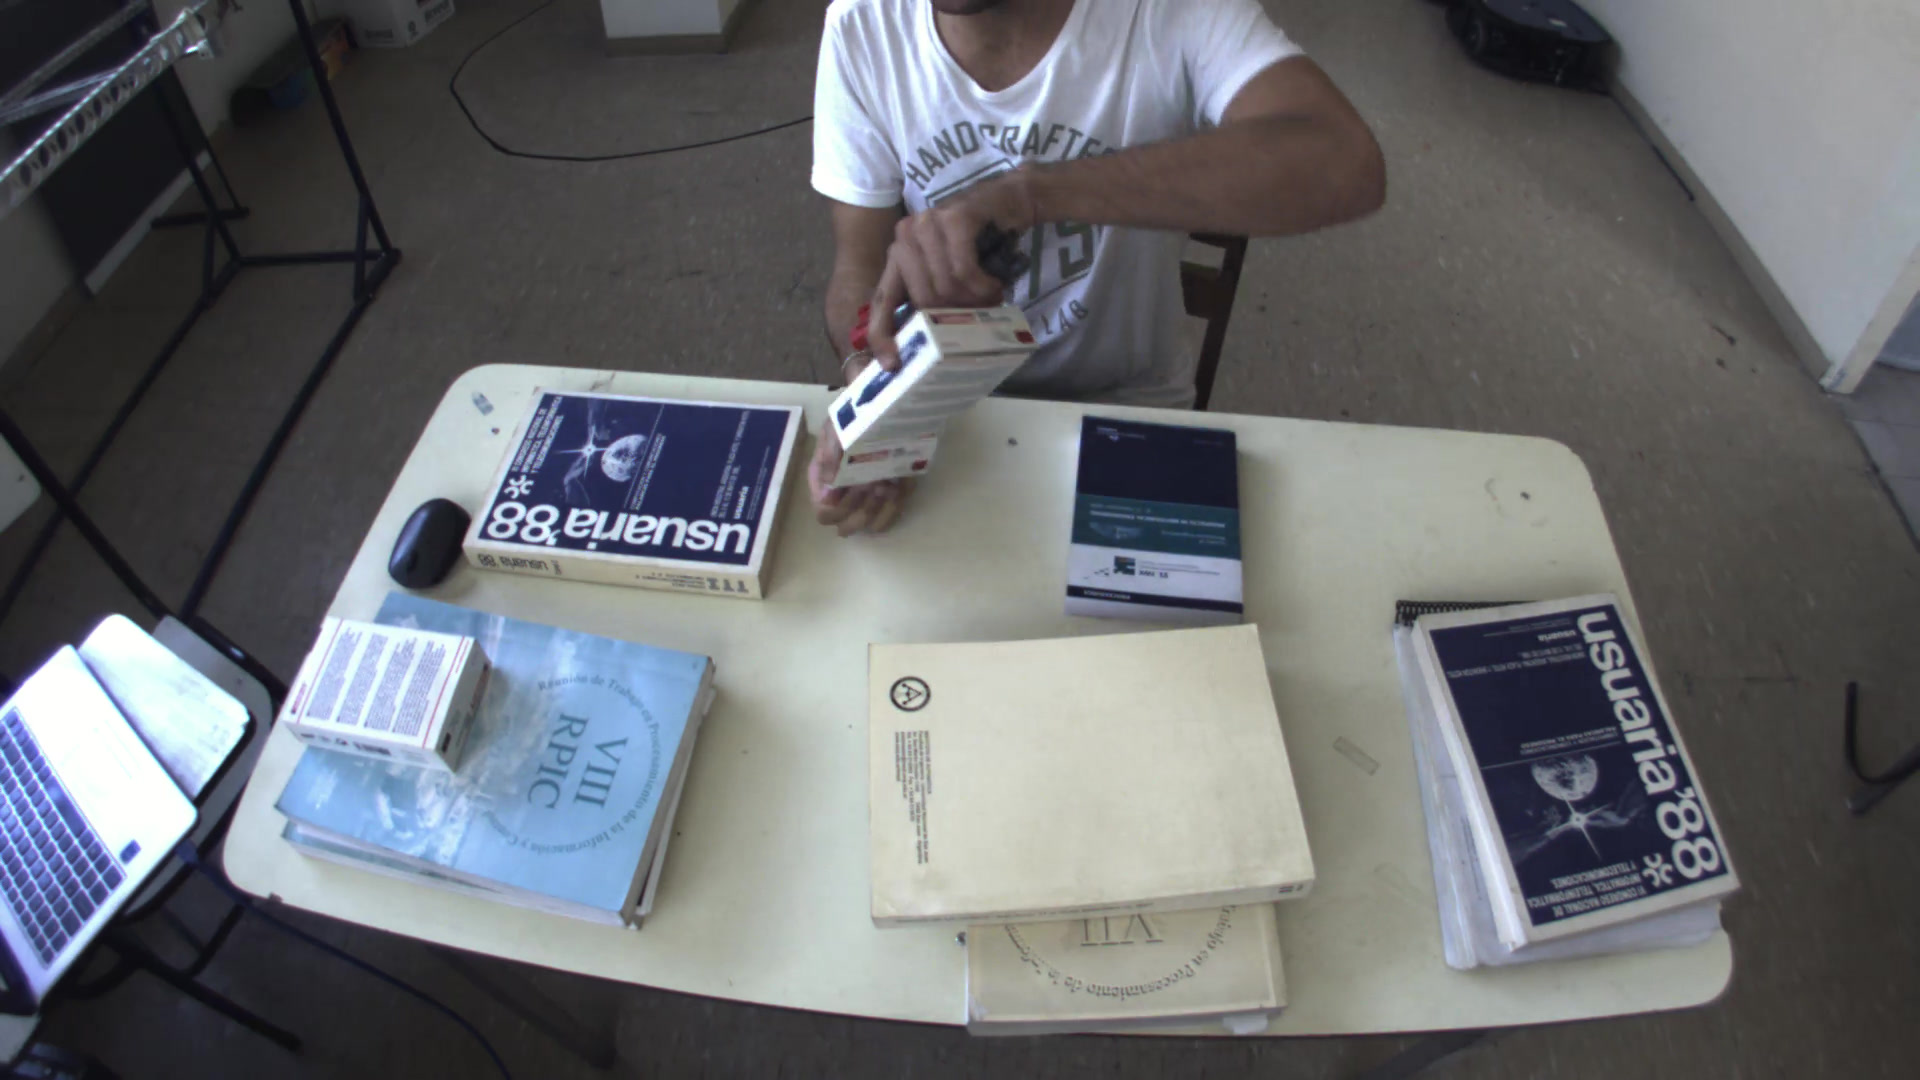hand: (782, 406, 936, 539), (862, 199, 1004, 315)
